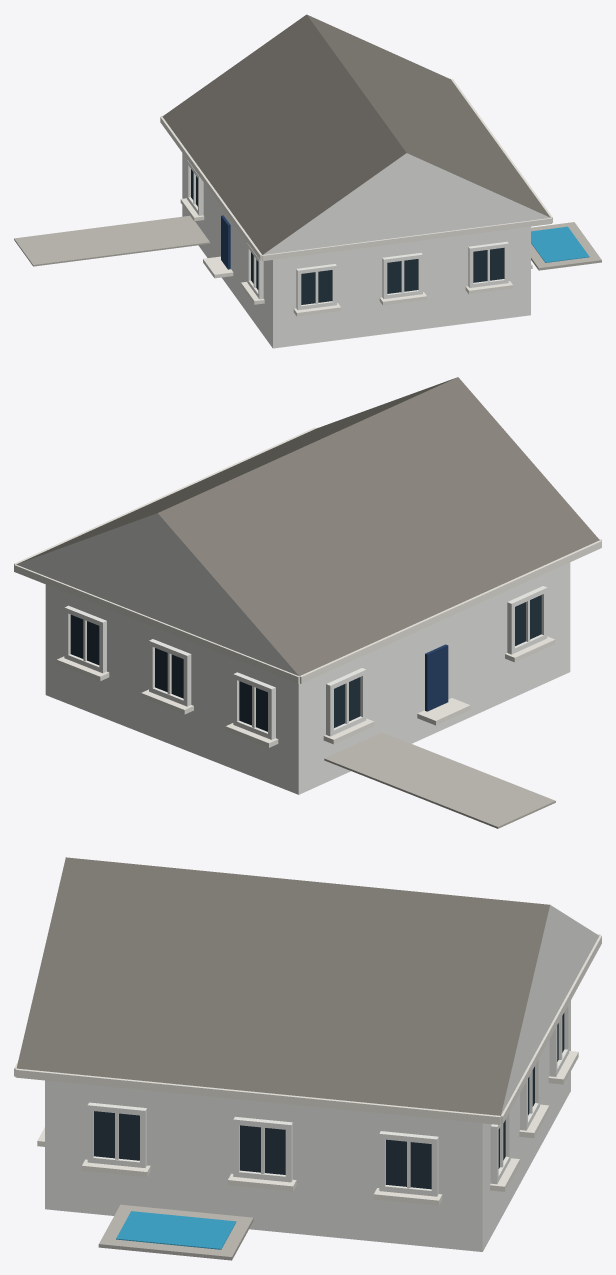
3 renders of one model, top to bottom at view 1: azimuth 30°, elevation 25°; view 2: azimuth 150°, elevation 25°; view 3: azimuth 270°, elevation 25°, orthographic. The views are drawn at different scales.
Parts seen in each view (by area): view 1: b4418; view 2: b4418; view 3: b4418.
Part boxes in pixels (bbox=[...]): b4418: bbox=[14, 14, 601, 348]; b4418: bbox=[14, 377, 601, 828]; b4418: bbox=[14, 857, 601, 1260].
Size of the model in its own units: 7861 by 3100 by 6138.
